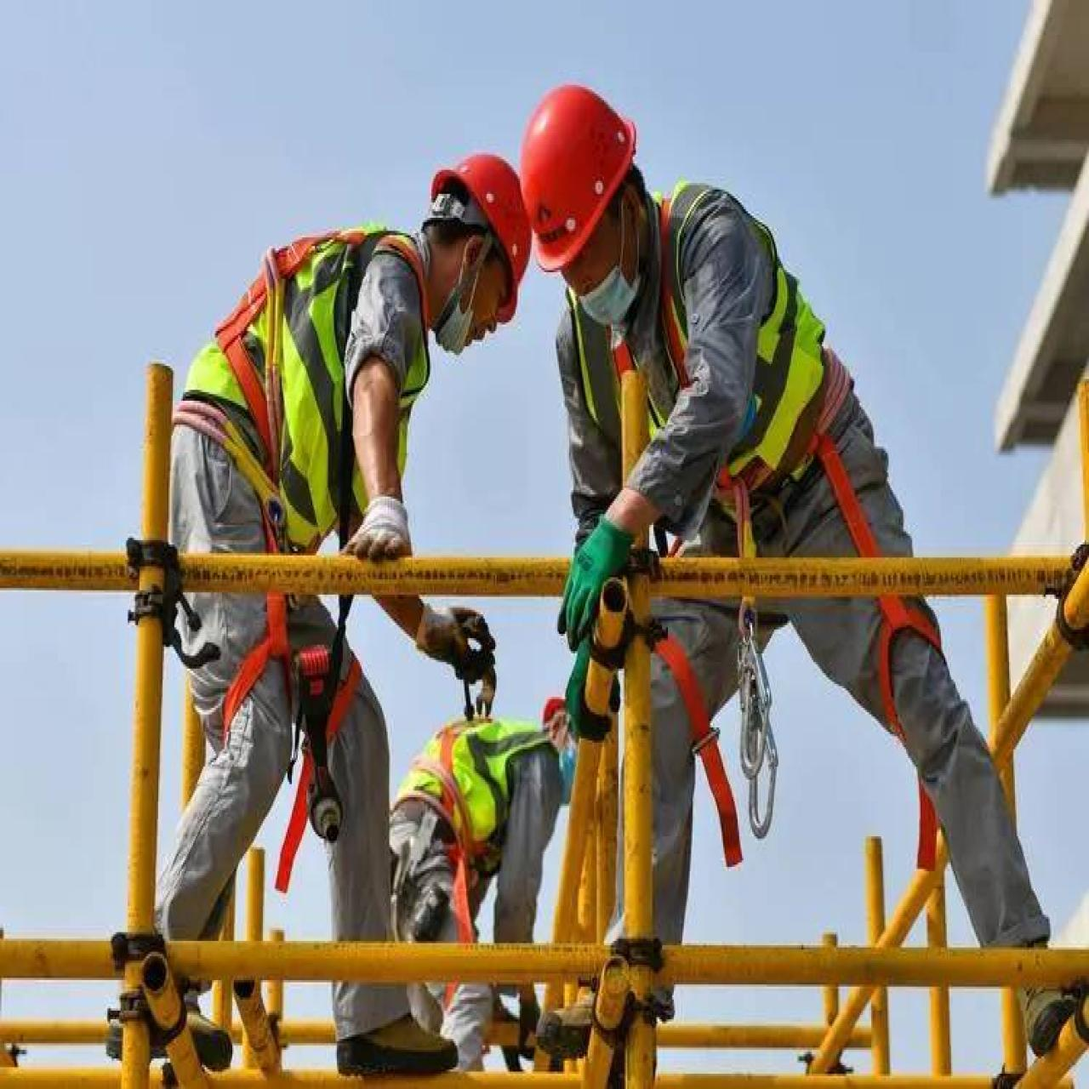Person: (507, 79, 1074, 1062), (89, 137, 535, 1077), (371, 672, 594, 1058)
Safety_Vest: (182, 198, 415, 618), (618, 151, 835, 531), (381, 709, 554, 881)
